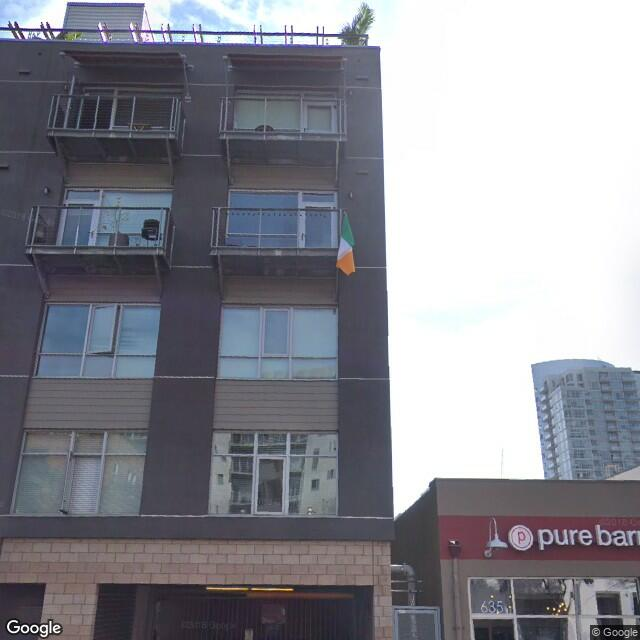window: (203, 422, 340, 513), (220, 292, 341, 393), (17, 424, 102, 514), (227, 183, 330, 247), (42, 301, 111, 375), (100, 426, 149, 505), (122, 299, 164, 380), (463, 585, 523, 640), (58, 184, 99, 257), (236, 93, 302, 135), (300, 90, 332, 146)
